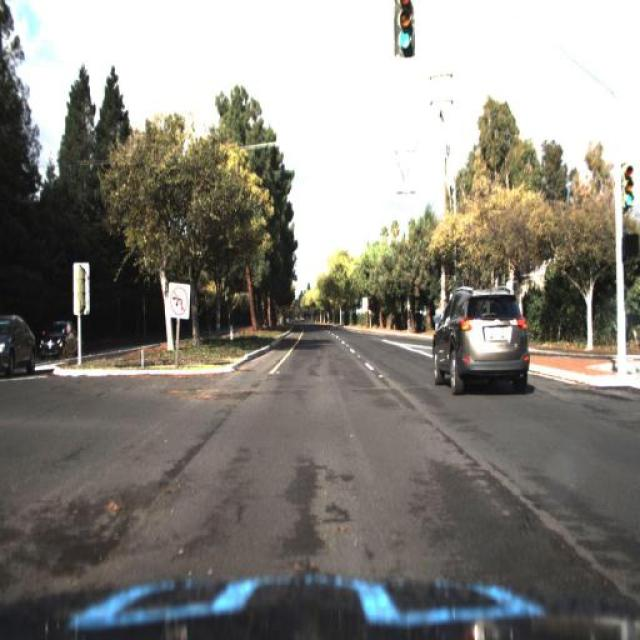car: (432, 284, 530, 397), (0, 313, 38, 377), (38, 320, 78, 360)
